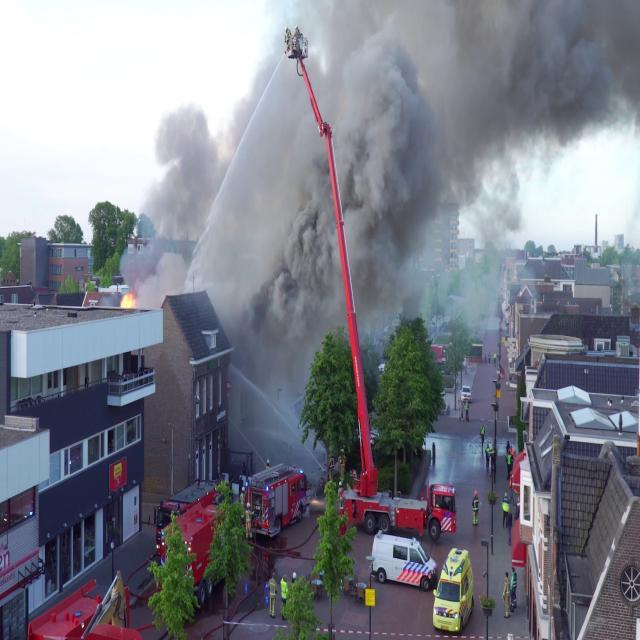Fire: (119, 286, 135, 314)
Smoke: (139, 0, 640, 316)
